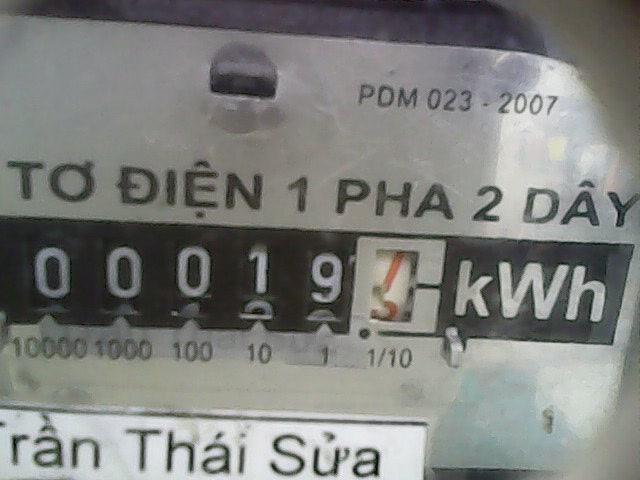phy_plate: (7, 215, 451, 352)
